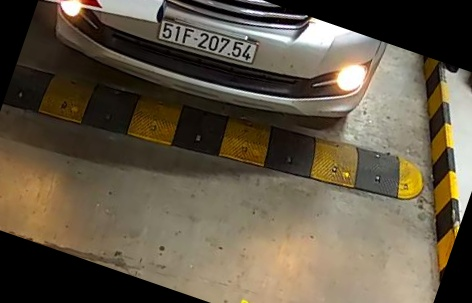plate: (157, 21, 264, 81)
